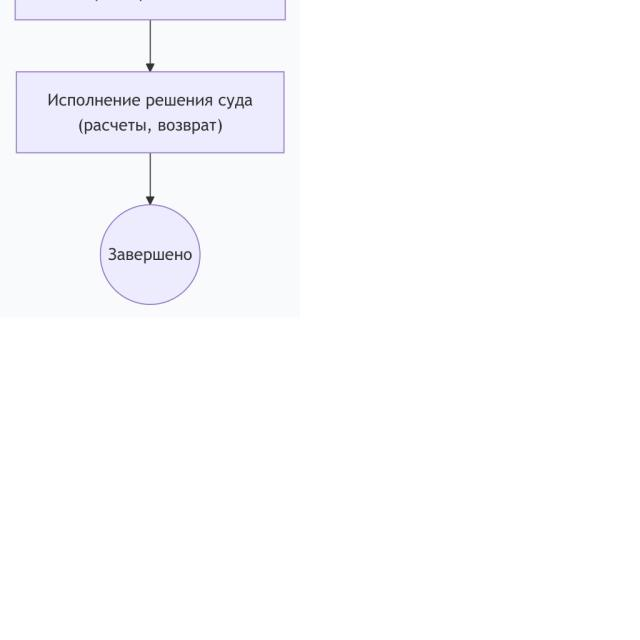arrow: (143, 19, 158, 72), (143, 153, 156, 205)
circle: (96, 204, 202, 306)
rectangle: (16, 68, 286, 152)
